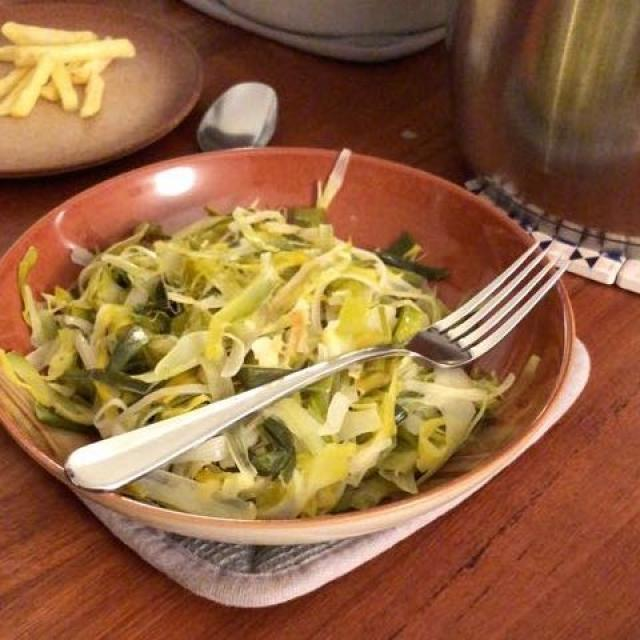leek: (26, 202, 517, 519)
